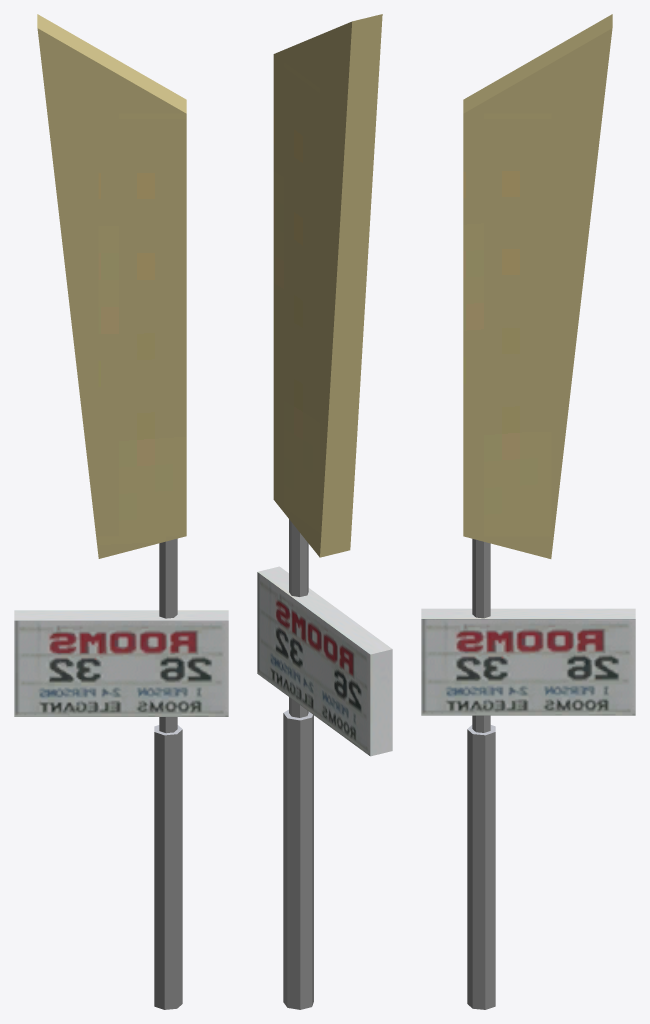
File: cuntw_stwnmotsign2.obj
3 views of the same model, side by side, from view 1: azimuth 90°, elevation 25°; view 2: azimuth 210°, elevation 25°; view 3: azimuth 270°, elevation 25° (orthographic). The views are drawn at different scales.
Parts seen in each view (by area): view 1: cuntw_stwnmotsign2; view 2: cuntw_stwnmotsign2; view 3: cuntw_stwnmotsign2.
Boxes of the visible parts, x1,y1,x2,y2 form: cuntw_stwnmotsign2: [14, 14, 228, 1009]; cuntw_stwnmotsign2: [257, 14, 392, 1009]; cuntw_stwnmotsign2: [421, 14, 635, 1009].
Size of the model in its own units: 0.3 by 9.77 by 1.93.
